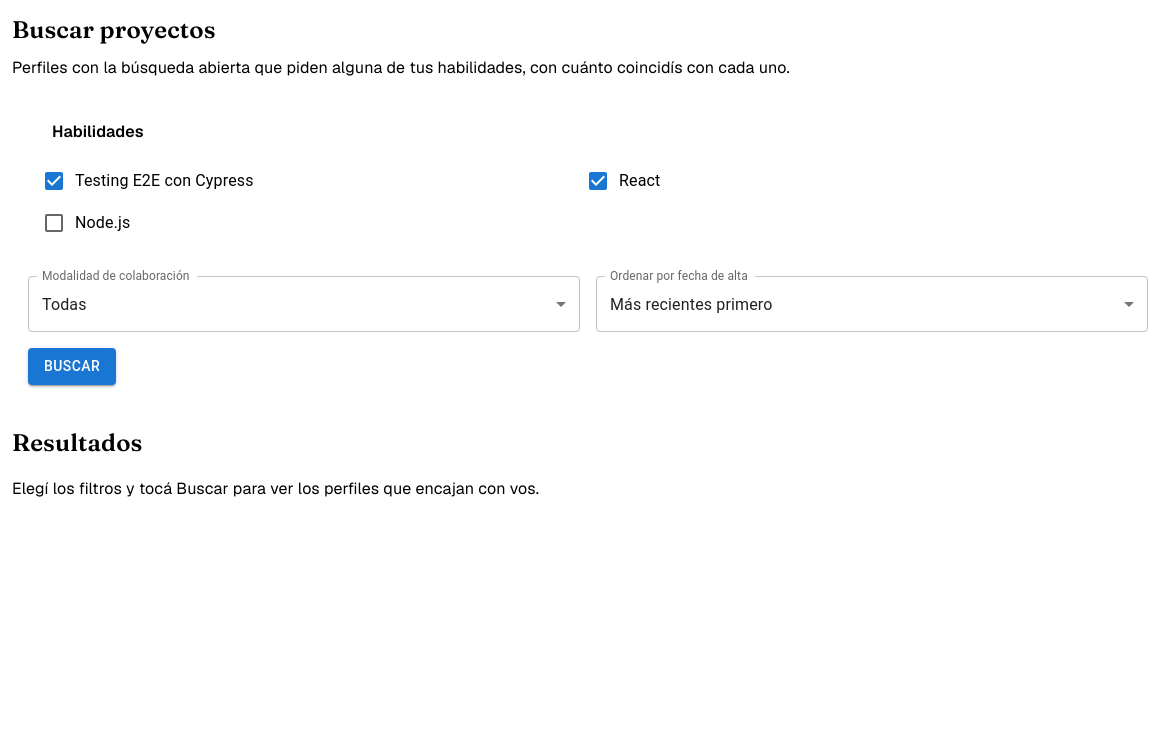
Scenario: Buscar proyectos, de la pantalla al pedido HTTP › si el backend no responde, avisa que no hay conexión y deja reintentar
This screenshot has width=1164, height=732.
Click the button "Buscar": click(72, 366) x1=28 y1=348 x2=116 y2=384
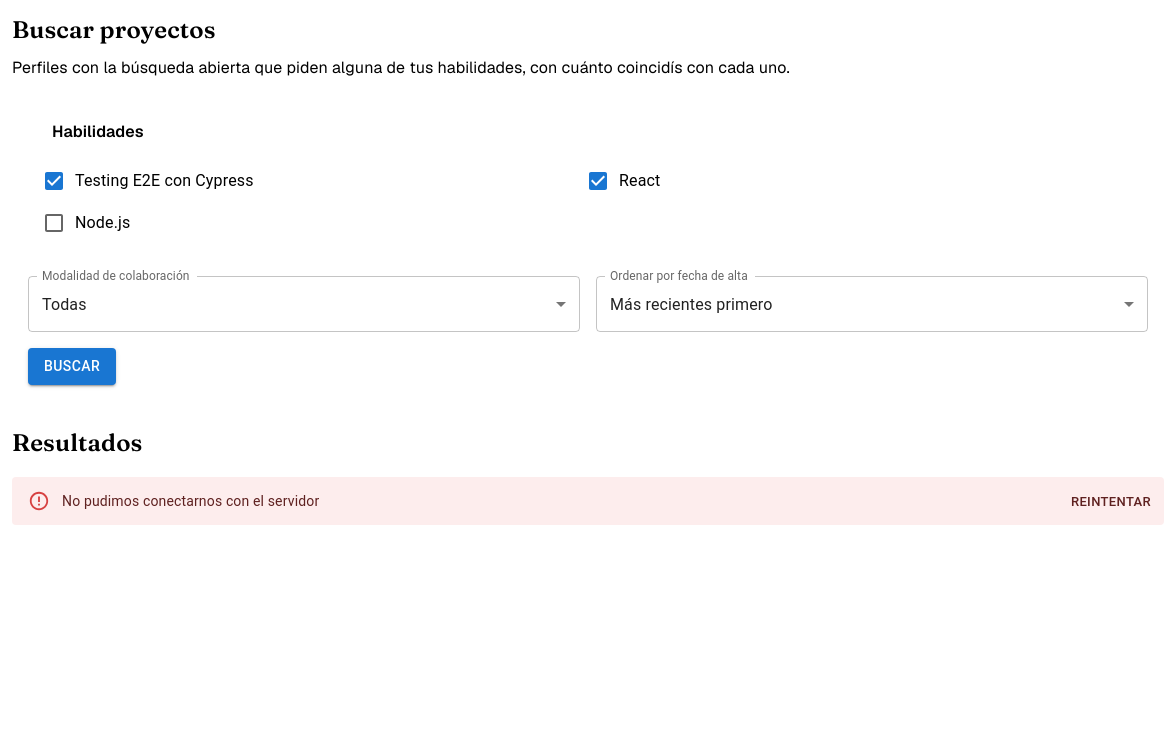
Expected: the message shows "No pudimos conectarnos con el servidor", x1=62 y1=492 x2=319 y2=508
Expected: the button "Reintentar" is shown, x1=1066 y1=486 x2=1156 y2=517
